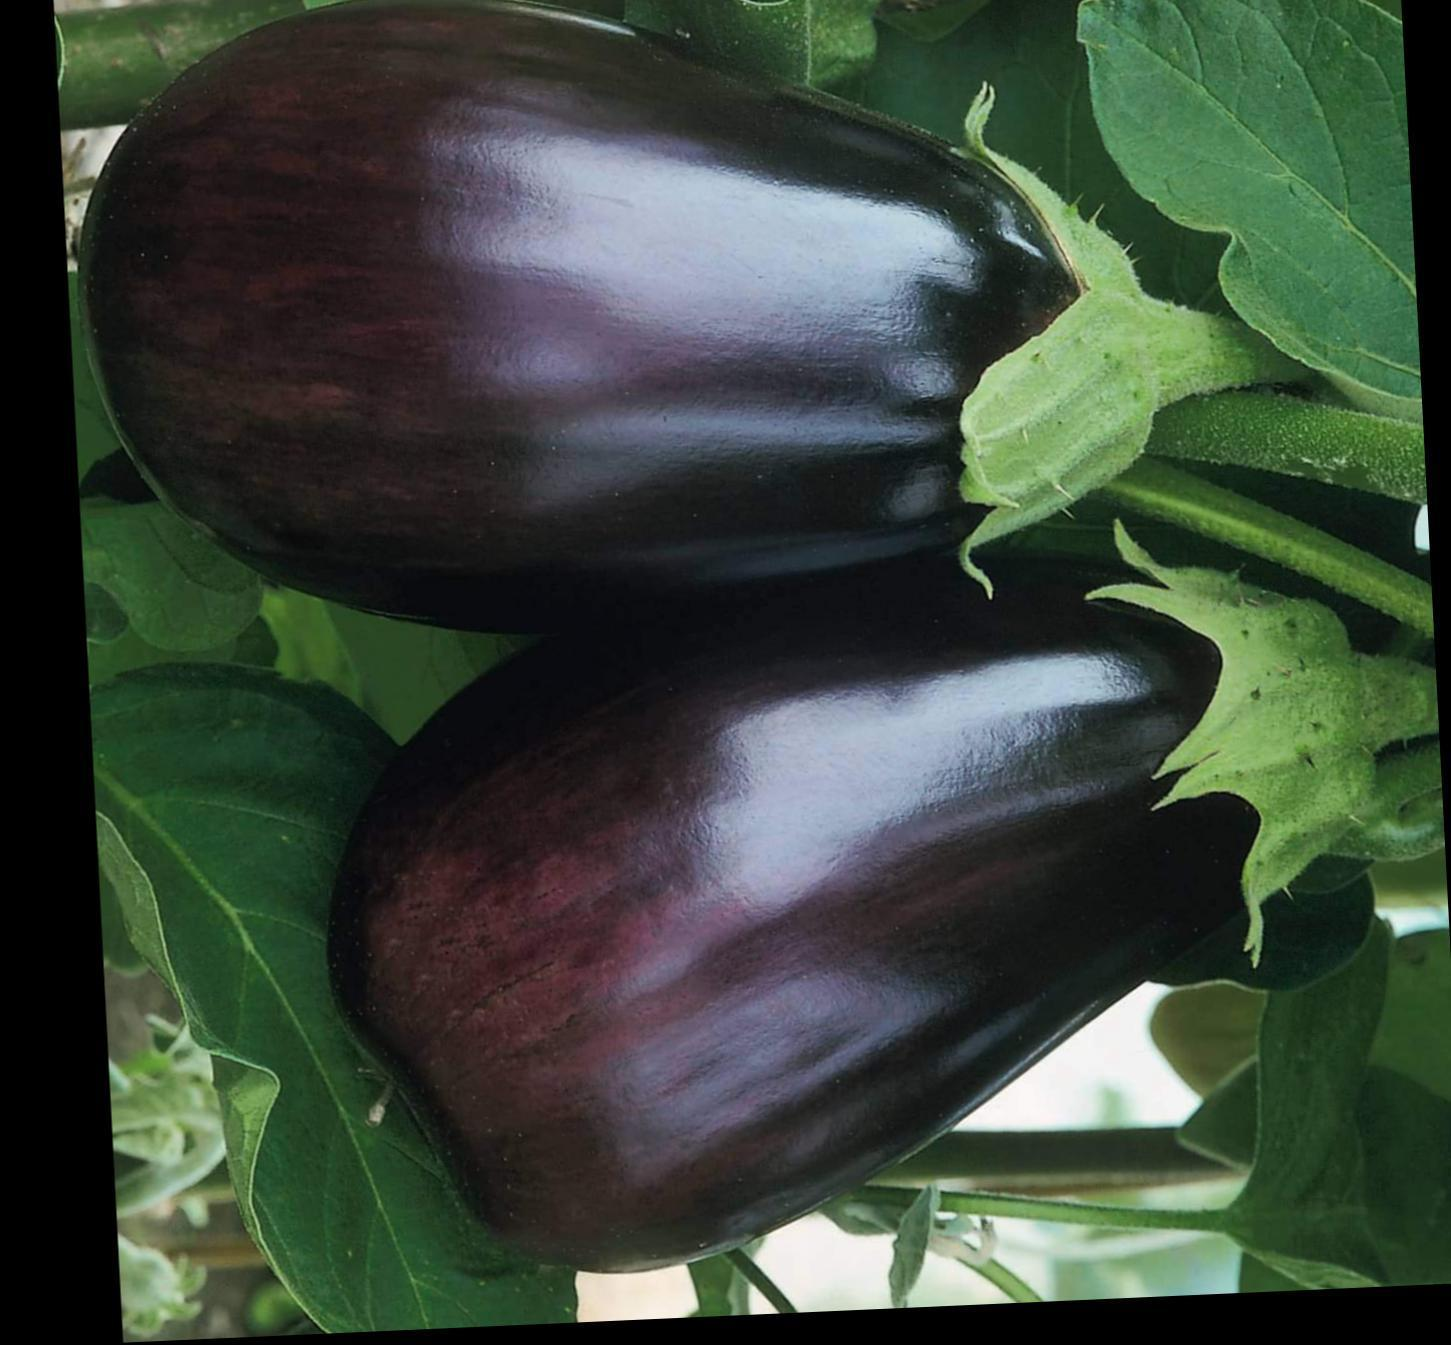eggplant: (70, 13, 1430, 1203)
